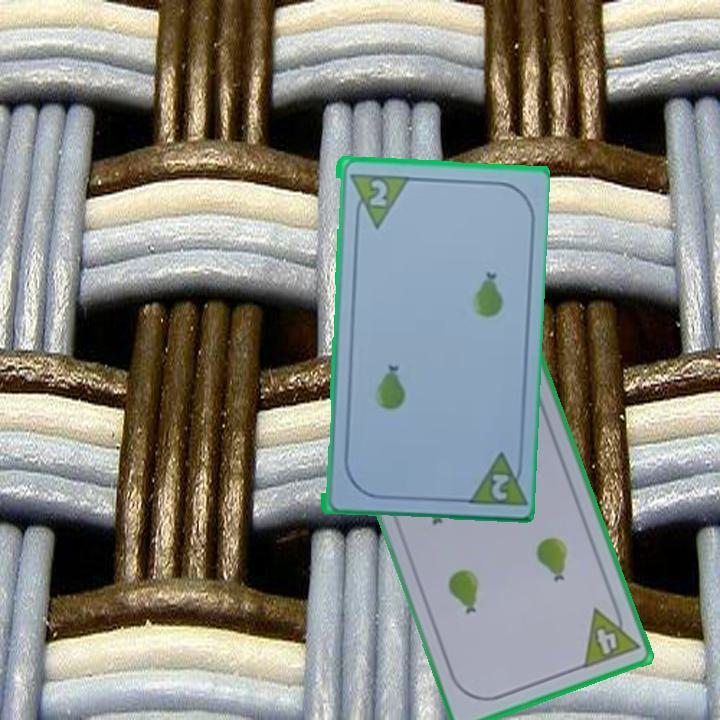2p: (487, 469, 511, 503), (365, 176, 389, 209)
4p: (580, 598, 643, 672)
